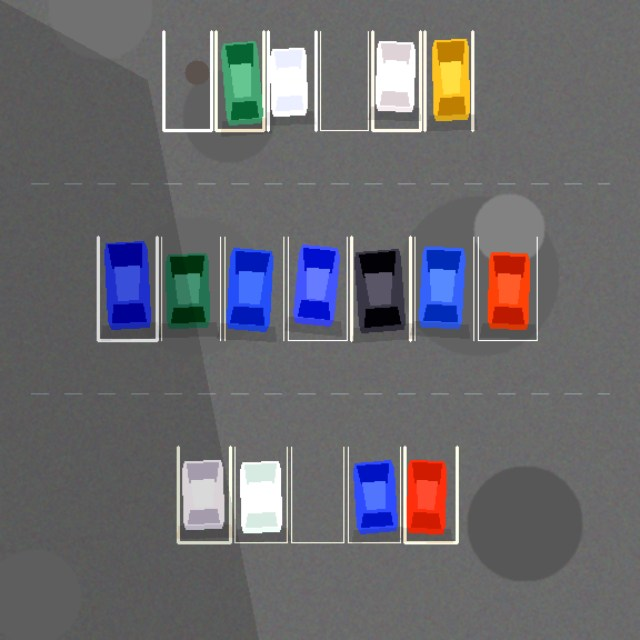space-empty: (291, 447, 343, 542), (163, 31, 211, 130), (320, 31, 368, 130)
space-occupied: (98, 237, 157, 340), (161, 237, 220, 340), (224, 237, 283, 340), (288, 237, 347, 340), (351, 237, 410, 340), (414, 237, 473, 340), (478, 237, 537, 340), (234, 447, 287, 542), (404, 447, 457, 542), (178, 447, 230, 542), (348, 447, 400, 542), (268, 31, 316, 130), (372, 31, 420, 130), (424, 31, 472, 130), (216, 31, 263, 130)
